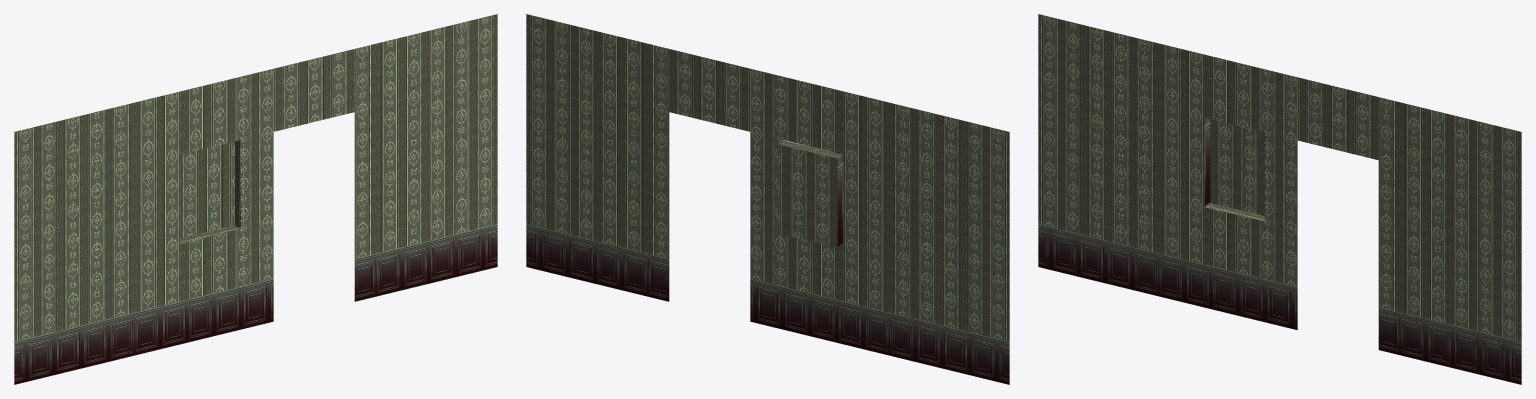
File: Murbureau.fbx
3 views of the same model, side by side, from view 1: azimuth 30°, elevation 25°; view 2: azimuth 150°, elevation 25°; view 3: azimuth 330°, elevation 25° (orthographic).
Visible parts, largest first — view 1: Plane015; view 2: Plane015; view 3: Plane015.
Boxes of the visible parts, box(x1,y1,x2,y2) form: Plane015: box(14, 14, 497, 384); Plane015: box(526, 14, 1009, 384); Plane015: box(1038, 14, 1521, 384).
Size of the model in its own units: 10 by 5 by 0.2029.
